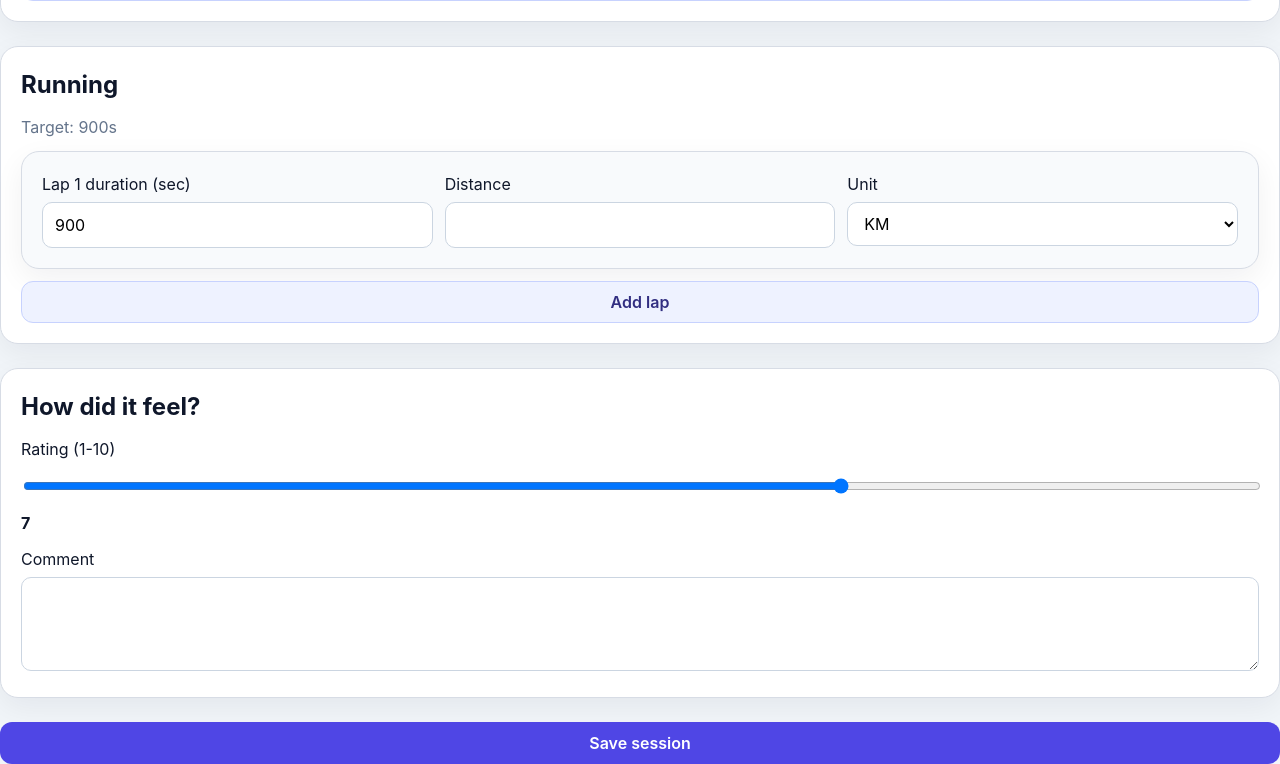
it: ProgramSessionForm › submits expected payload and shows success message
(page scrolled)
Set the slider to "9" at (1117, 486), box [23,467,1261,505]
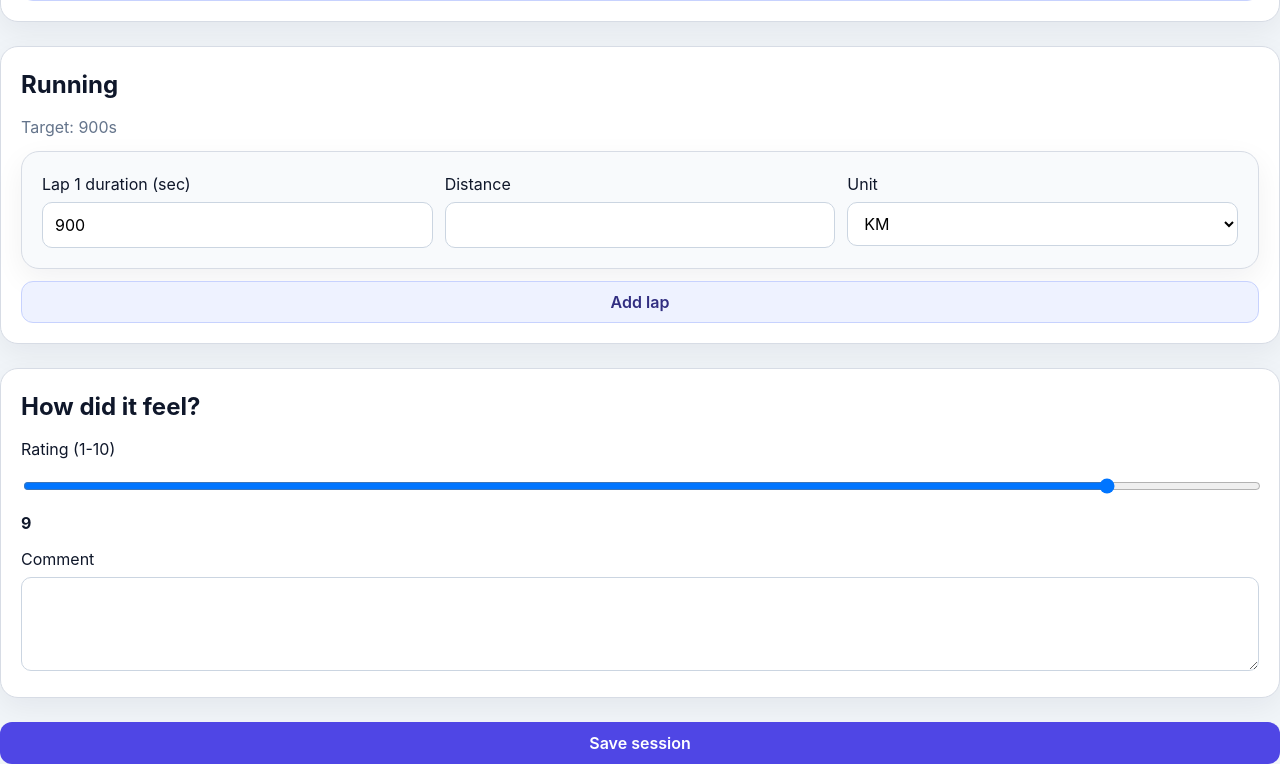
Type "Great session" into the text box at (640, 624), box [21,577,1259,671]
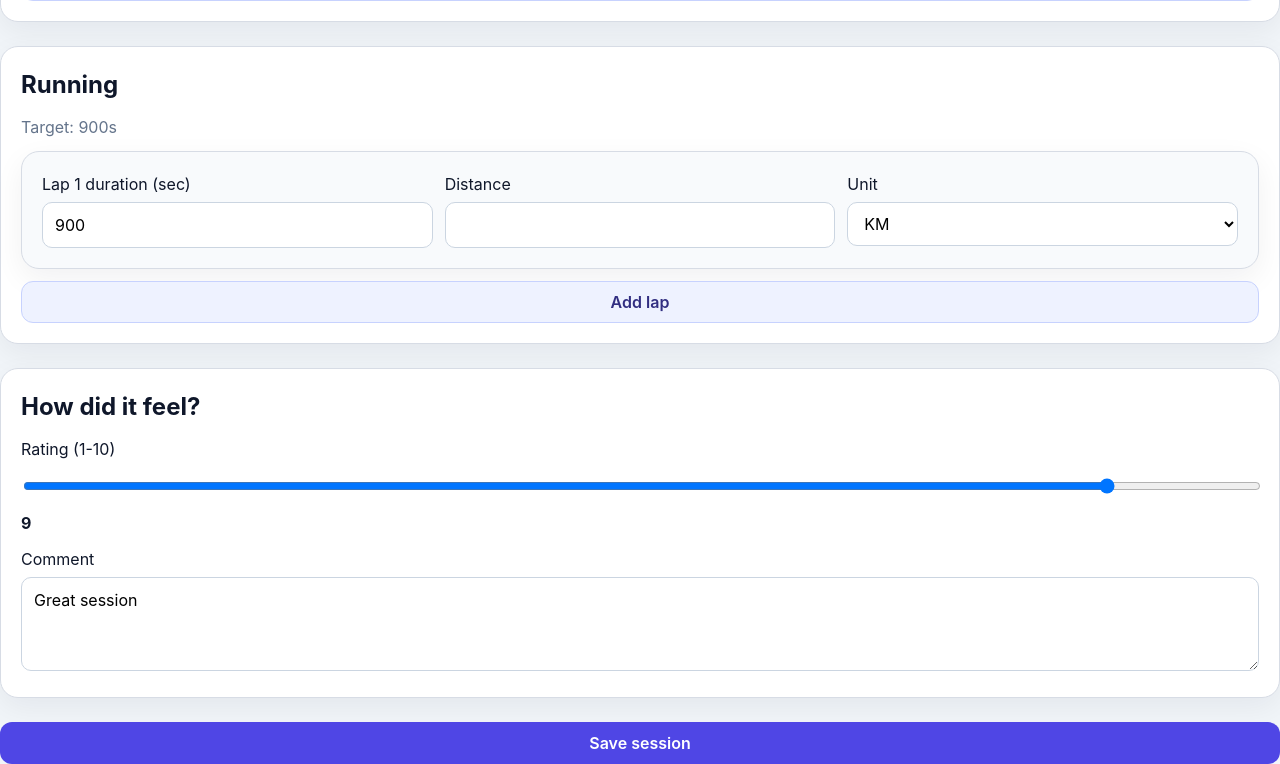
Click the button "Save session" at (640, 743), box [0,722,1279,763]
(page scrolled)
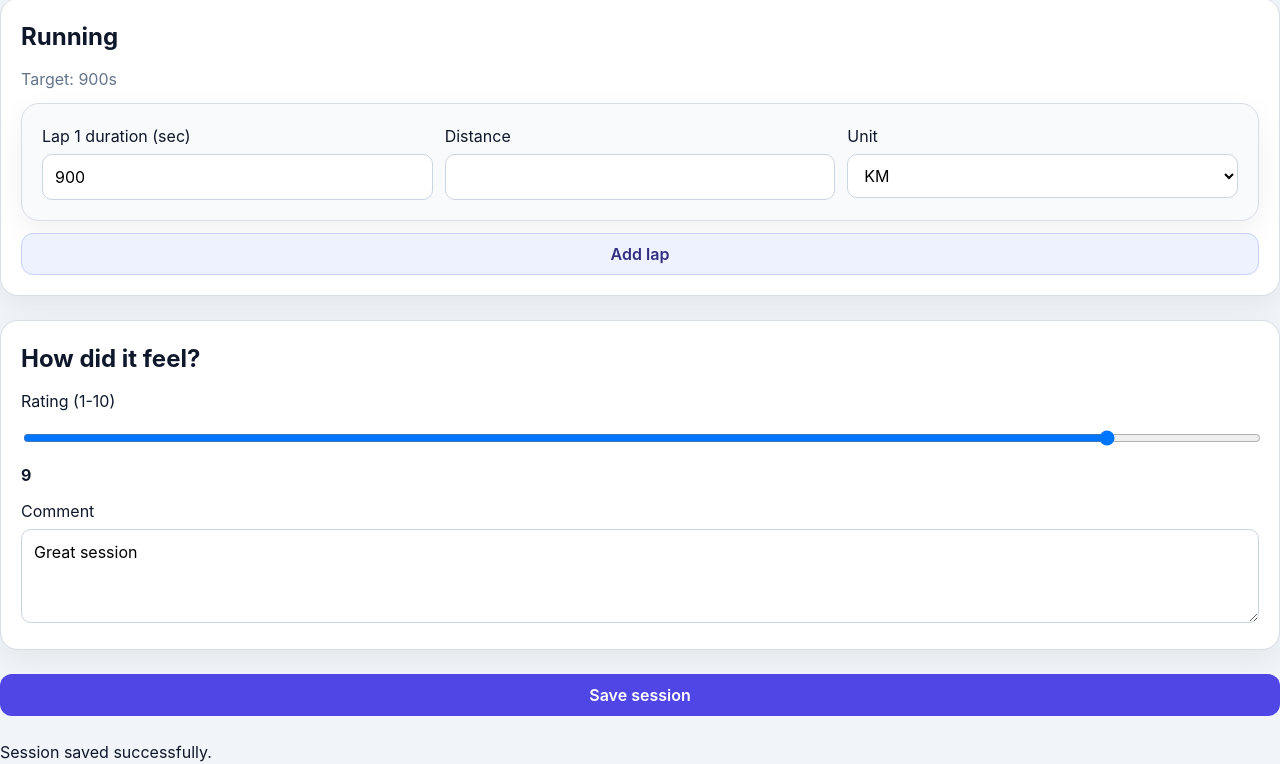
Expected: the text "Session saved successfully." is shown, [0,742,212,762]
